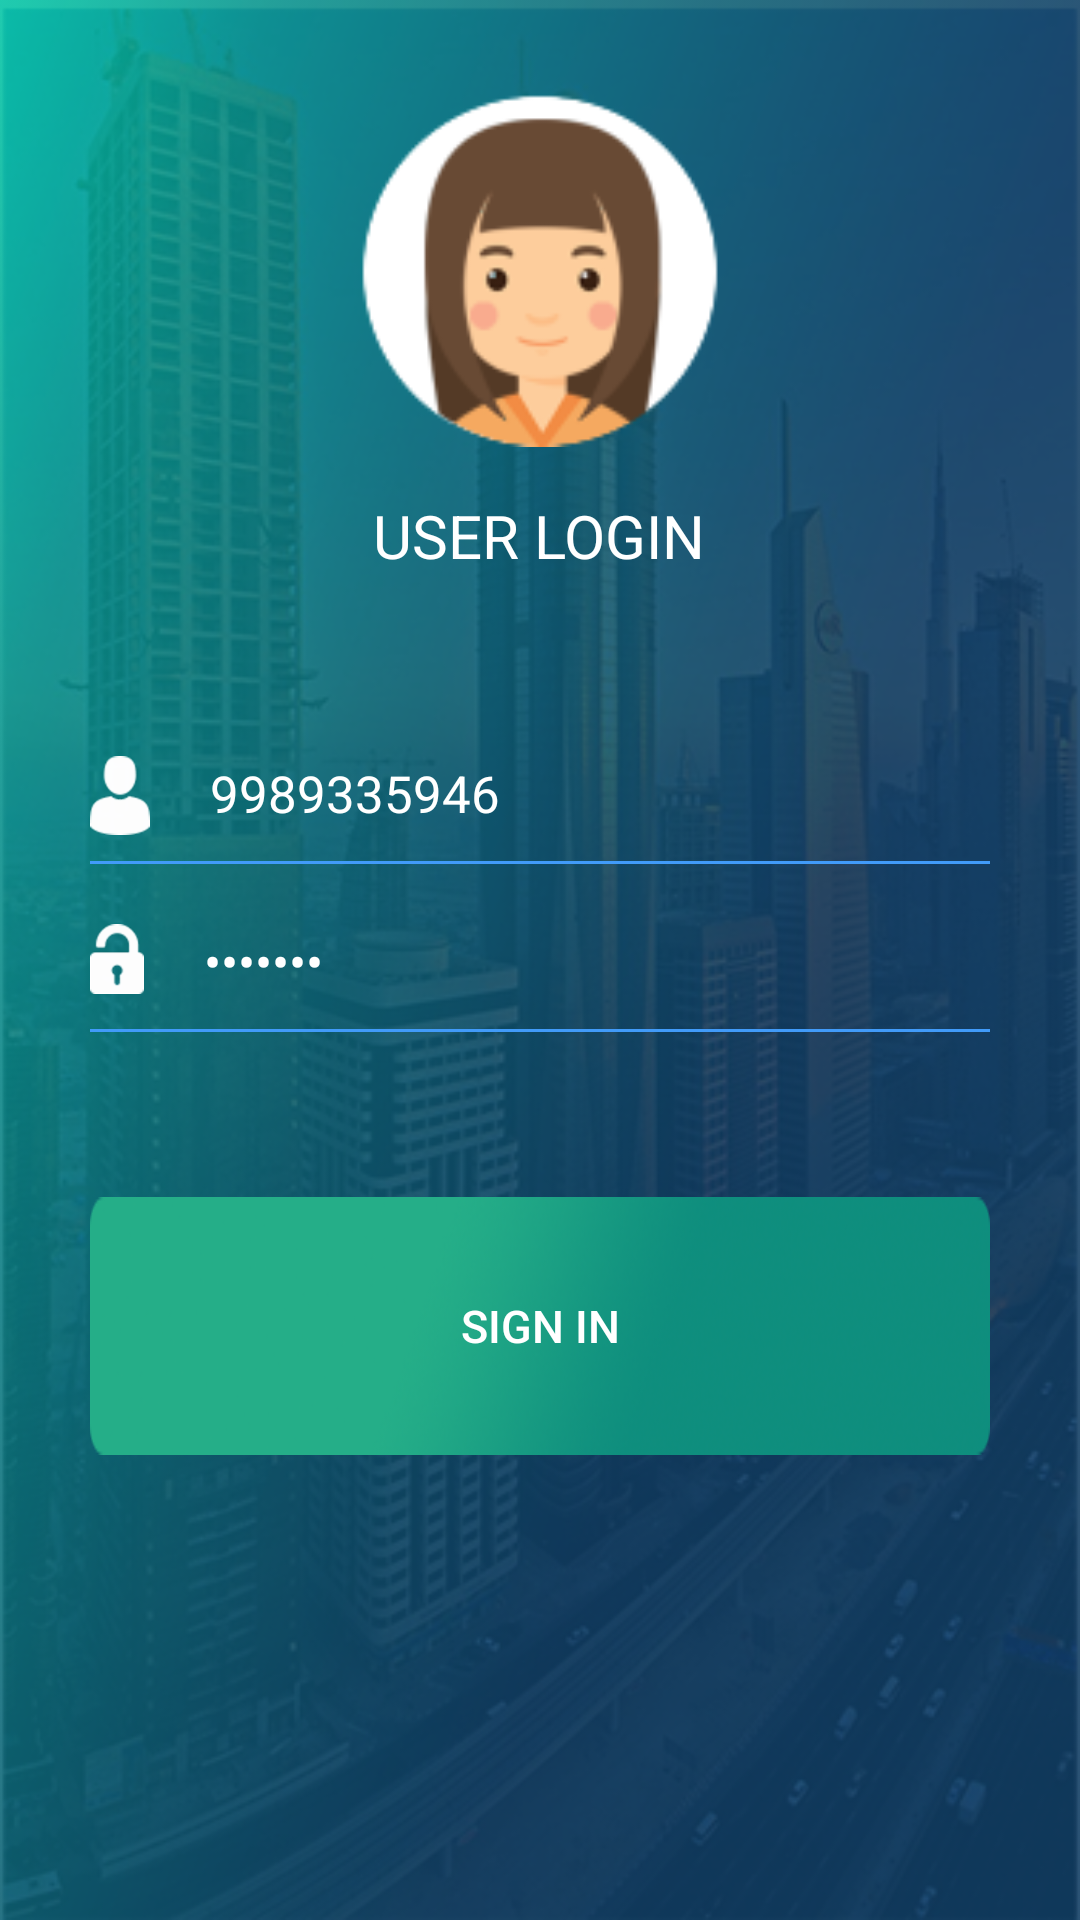

Named icons in this screenshot (1080 × 1920) and their bounding boxes, (x1, y1, x2, y2):
lock: (90, 924, 144, 994)
